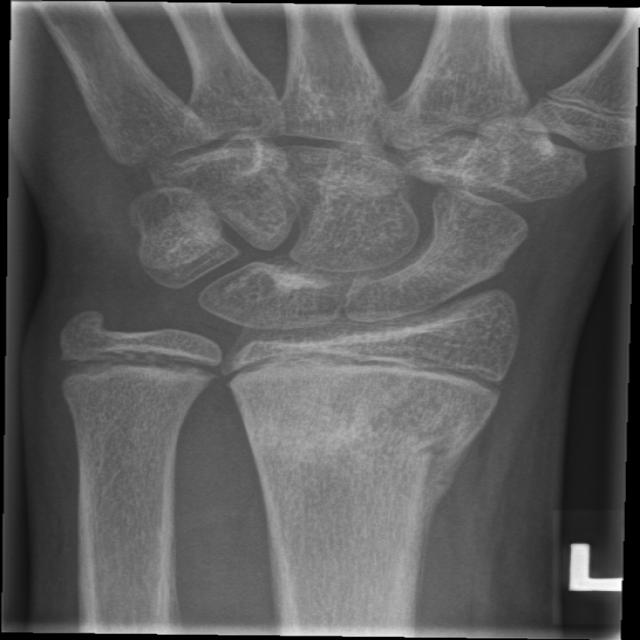radius fracture: (226, 386, 524, 585)
